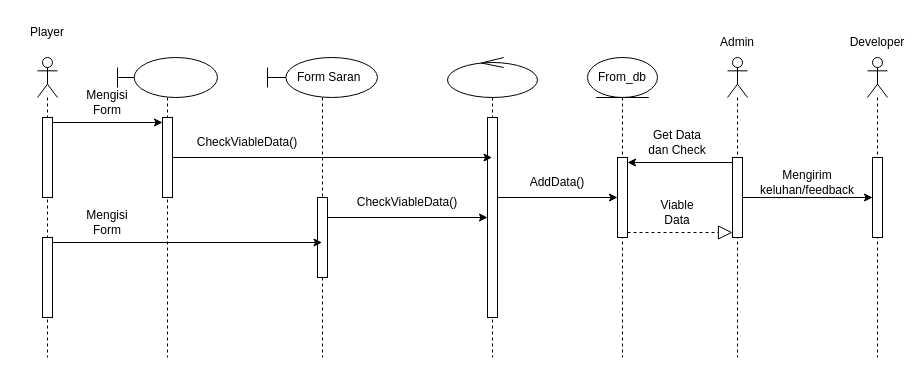
This 924x375 diagram has some shape labels left out. Each missing label, with the box of its shape:
Form Keluhan: (116, 56, 218, 358)
From Controll: (446, 56, 538, 358)
